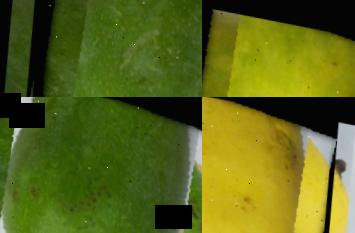PartiallyRipe: (202, 4, 355, 97)
Ripe: (202, 97, 338, 233)
Unripe: (0, 97, 202, 233), (20, 0, 202, 97)
